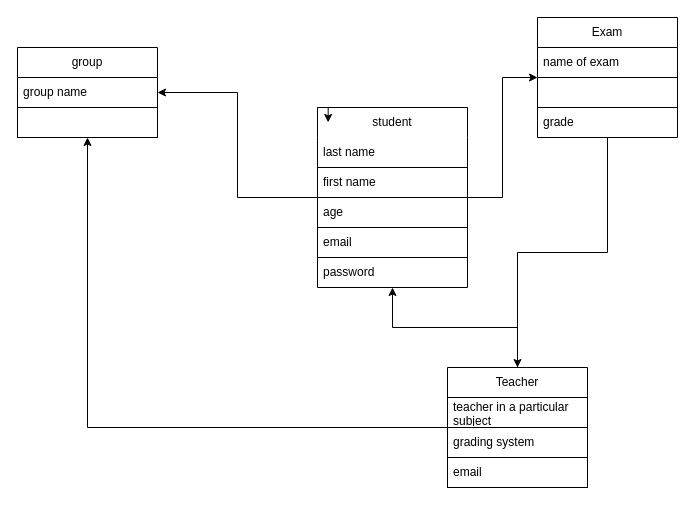
Some shapes in this 695 by 505 pixel diagram are drawn without their labels. The shapes that lost their labels are listed below. From the top down, each one's centre as x and y in pixels, then its label:
At point 607,92: "description".
At point 87,122: "members".
